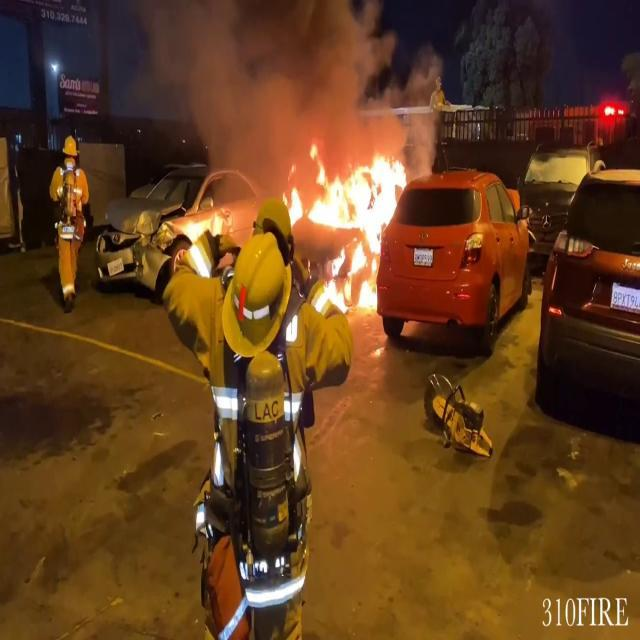Fire: (288, 144, 412, 316)
Smoke: (116, 0, 444, 157)
